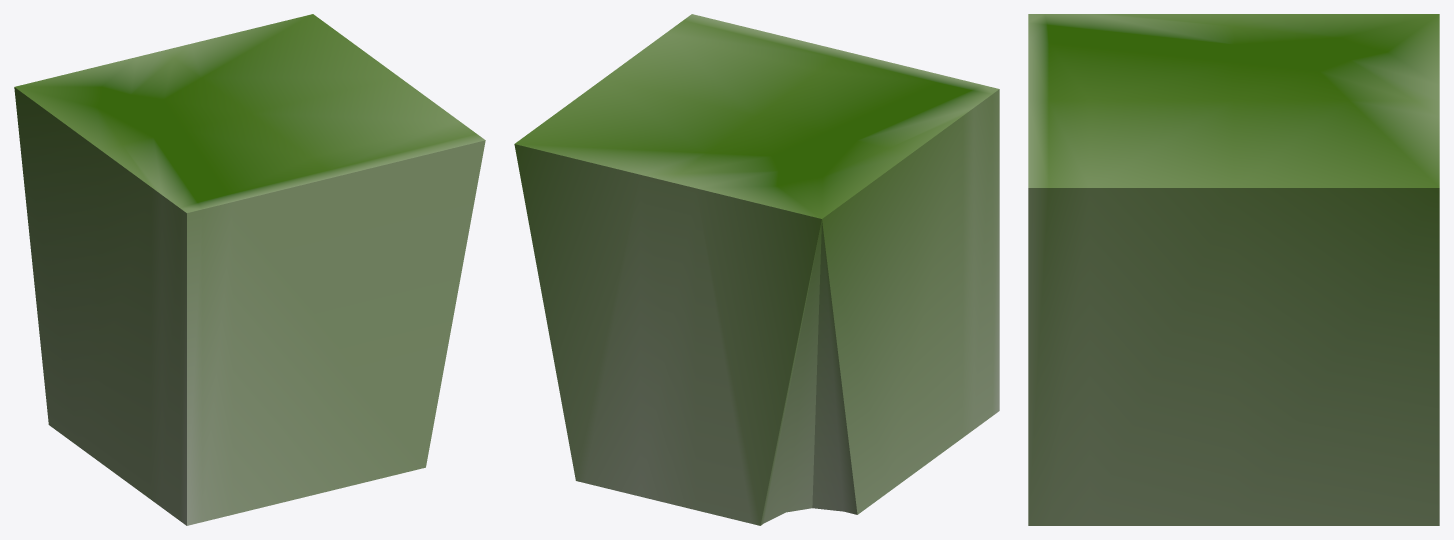
3 renders of one model, left to right at view 1: azimuth 30°, elevation 25°; view 2: azimuth 150°, elevation 25°; view 3: azimuth 270°, elevation 25°, orthographic. The views are drawn at different scales.
Parts seen in each view (by area): view 1: 3, 1, 4, 2; view 2: 4, 2, 3, 1; view 3: 1, 2, 3, 4.
Boxes of the visible parts, box(x1,y1,x2,y2) form: 3: box(100, 113, 336, 525); 1: box(250, 77, 485, 489); 4: box(14, 50, 249, 462); 2: box(164, 14, 398, 113); 4: box(668, 116, 910, 525); 2: box(514, 79, 756, 503); 3: box(757, 51, 999, 475); 1: box(603, 14, 845, 116); 1: box(1028, 101, 1233, 525); 2: box(1234, 101, 1439, 525); 3: box(1028, 14, 1233, 100); 4: box(1234, 14, 1439, 100).
Bounding box in the file's own units: 200 × 200 × 200.
